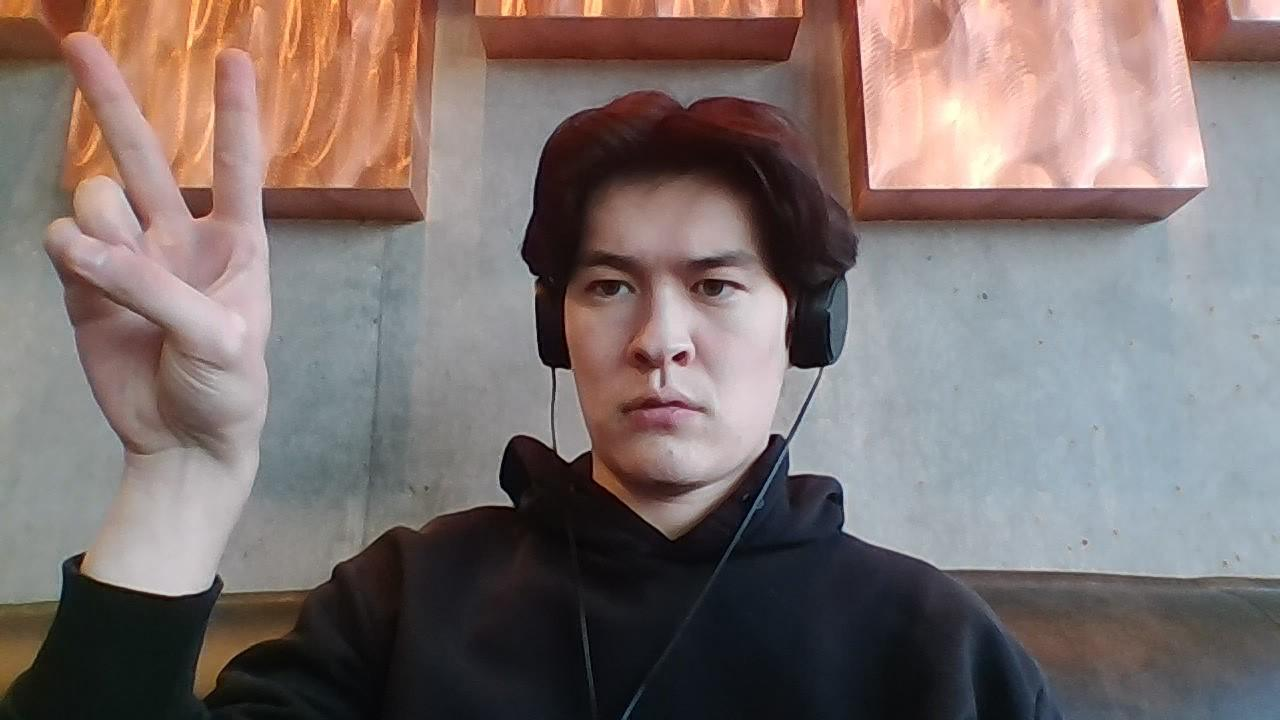peace: (48, 28, 273, 454)
